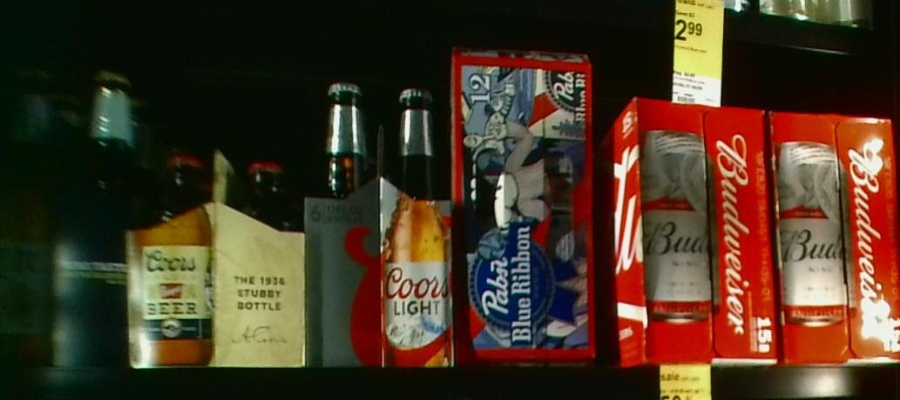bottle: (601, 98, 780, 364), (452, 44, 594, 365), (305, 78, 449, 368), (129, 132, 302, 368), (768, 107, 900, 368), (52, 60, 128, 366), (1, 67, 48, 364)
